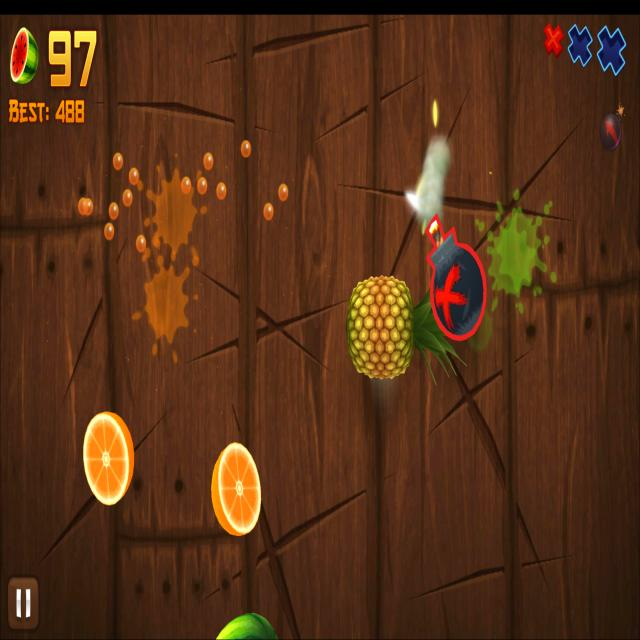bomb: (427, 213, 488, 341)
fruit: (347, 276, 412, 378), (214, 614, 279, 640)
